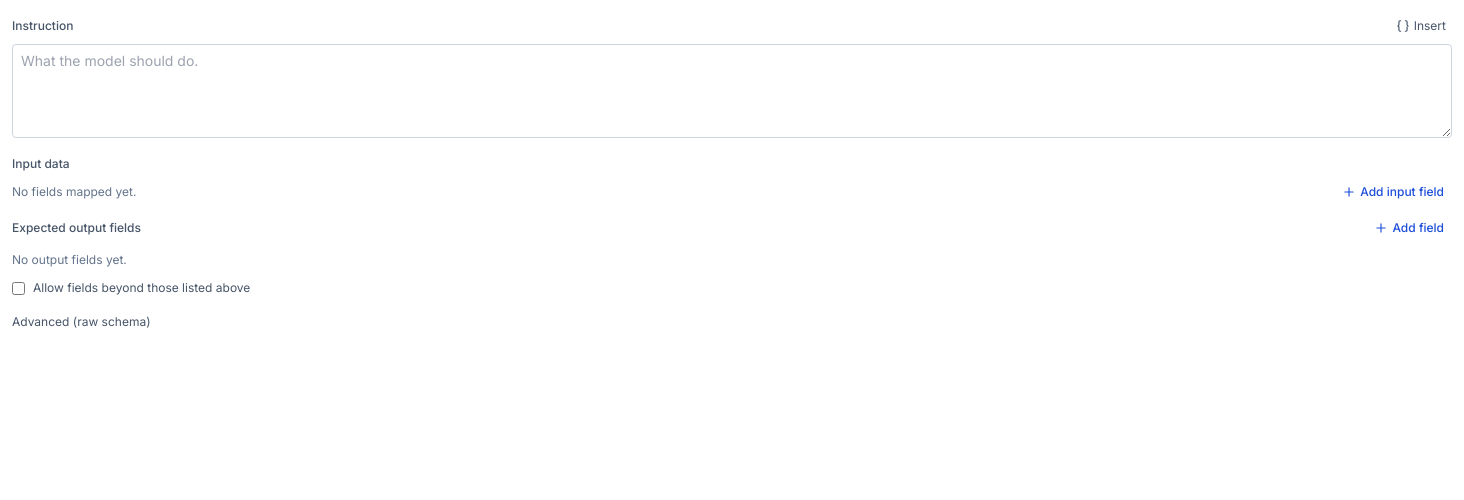
AiStepEditor visual fields › reveals the raw output schema only behind Advanced
Step 1. Click the button "Advanced (raw schema)" → (81, 322), box [12, 314, 150, 330]
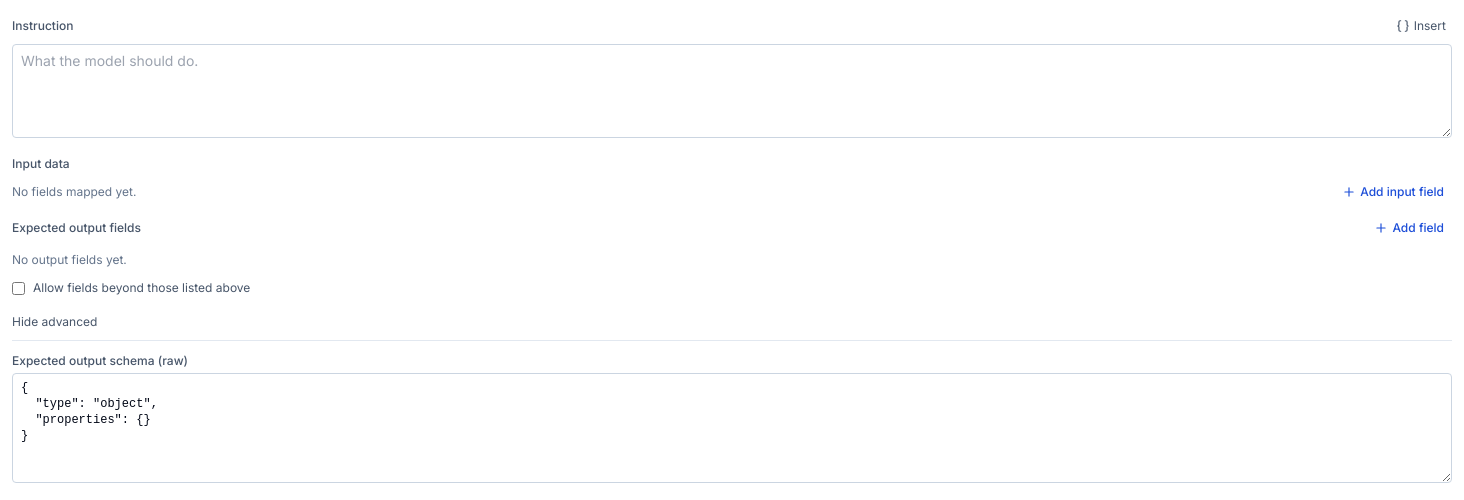
Result: the text box named "a1-expect" is shown at [12, 373, 1452, 483]
